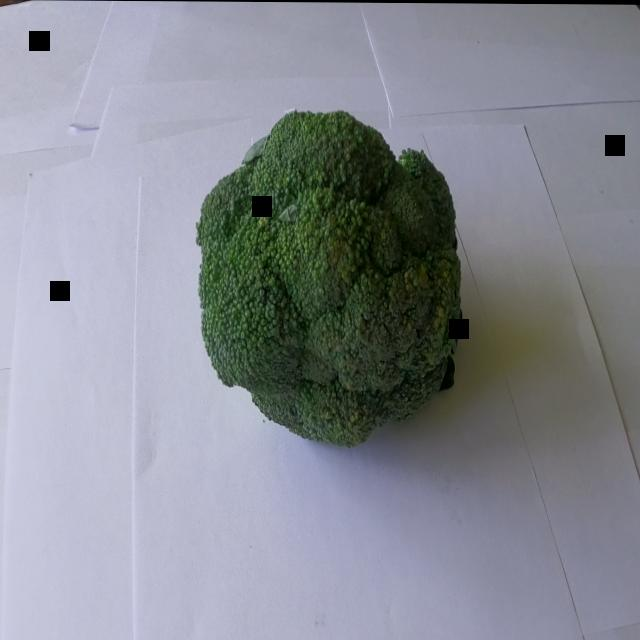Broccoli: (188, 92, 481, 469)
